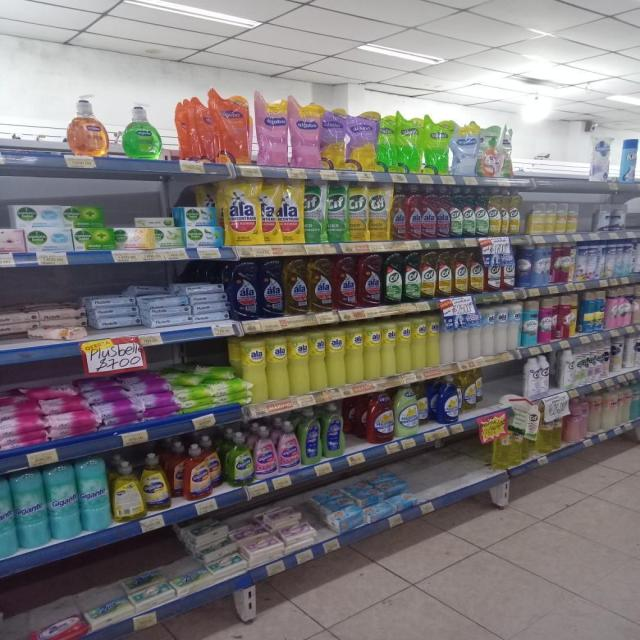ala_conc_amarillo: (284, 257, 308, 315), (308, 255, 332, 312)
ala_conc_azul: (229, 258, 258, 320), (259, 258, 283, 318)
ala_conc_rojo: (358, 253, 382, 307), (334, 254, 356, 310), (391, 184, 407, 240), (407, 185, 421, 240), (422, 186, 436, 239), (436, 186, 449, 238)
ala_crem_amarillo: (239, 334, 266, 404), (267, 333, 288, 400), (289, 329, 308, 396), (327, 325, 345, 388), (346, 322, 364, 384), (310, 328, 326, 392), (364, 320, 381, 380), (381, 318, 396, 377), (396, 316, 411, 374), (412, 315, 426, 370), (426, 312, 439, 367)
ala_crem_blanco: (454, 308, 468, 362), (441, 310, 454, 364), (508, 300, 521, 350), (469, 306, 481, 359), (482, 304, 494, 356), (495, 302, 507, 353)
ala_sachet_amarillo: (222, 178, 260, 245), (280, 178, 303, 244), (261, 178, 279, 244)
cif_conc_bot_amarilla: (437, 250, 452, 298), (421, 251, 436, 299), (453, 250, 468, 295), (469, 249, 484, 293), (489, 188, 500, 236), (510, 190, 521, 236), (501, 190, 510, 236)
cif_conc_botella_verde: (383, 252, 402, 305), (403, 252, 420, 302), (462, 187, 475, 237), (475, 188, 488, 236), (450, 186, 462, 238)
cif_conc_sachet_amarillo: (369, 182, 390, 241), (348, 181, 368, 242)
cif_conc_sachet_verde: (304, 180, 325, 243), (326, 182, 348, 242)
heroe: (80, 457, 110, 532), (0, 476, 16, 560)
magistral_con_azul: (435, 376, 460, 424)
magistral_con_crema: (394, 384, 418, 436)
